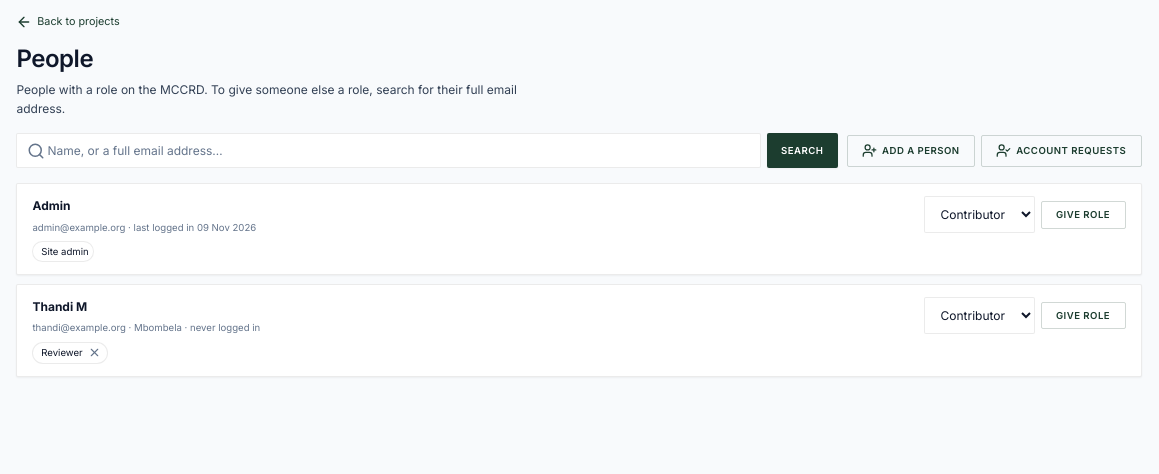
Test: AdminUsers › gives a role, contributor by default, on the only site the admin runs
expect the dropdown named "Role for Thandi M" in the row of "Thandi M" shows "Contributor": met, box x1=924 y1=297 x2=1034 y2=334
Click the button "Give role" in the row of "Thandi M": (1083, 316) x1=1040 y1=302 x2=1126 y2=329
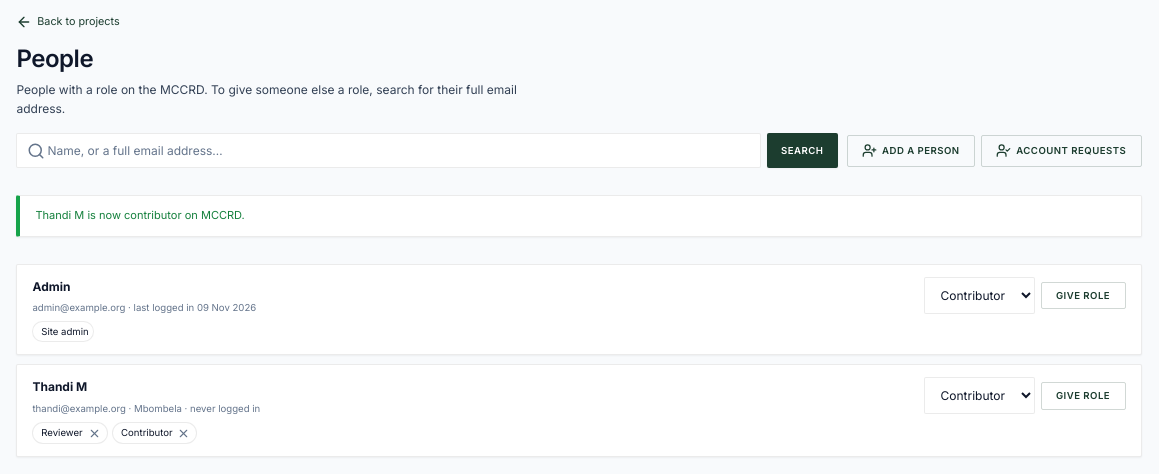
expect the message reads "Thandi M is now contributor on MCCRD.": met, box x1=36 y1=208 x2=245 y2=222
expect the list named "Thandi M's roles" shows "Contributor": met, box x1=121 y1=428 x2=173 y2=438
